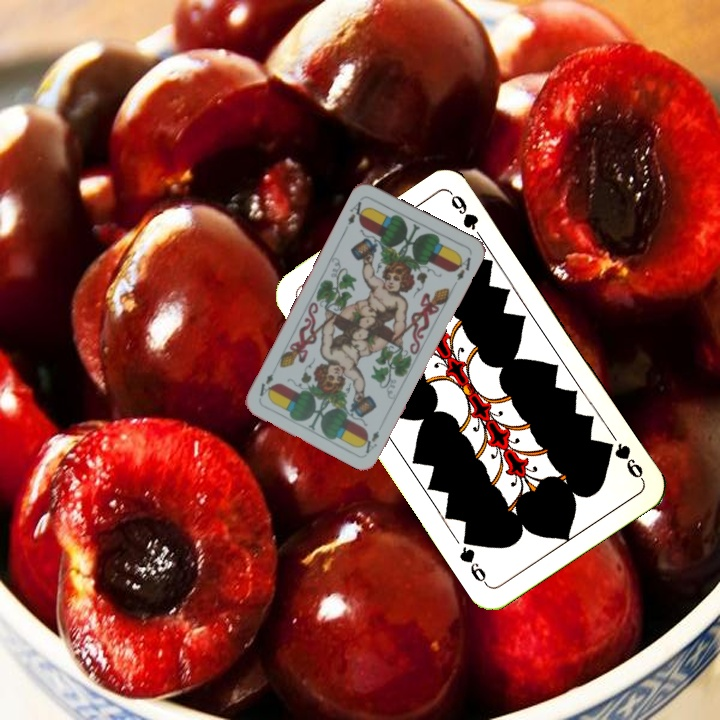EA: (343, 195, 369, 228), (359, 427, 382, 456)
G9: (599, 437, 646, 483)
